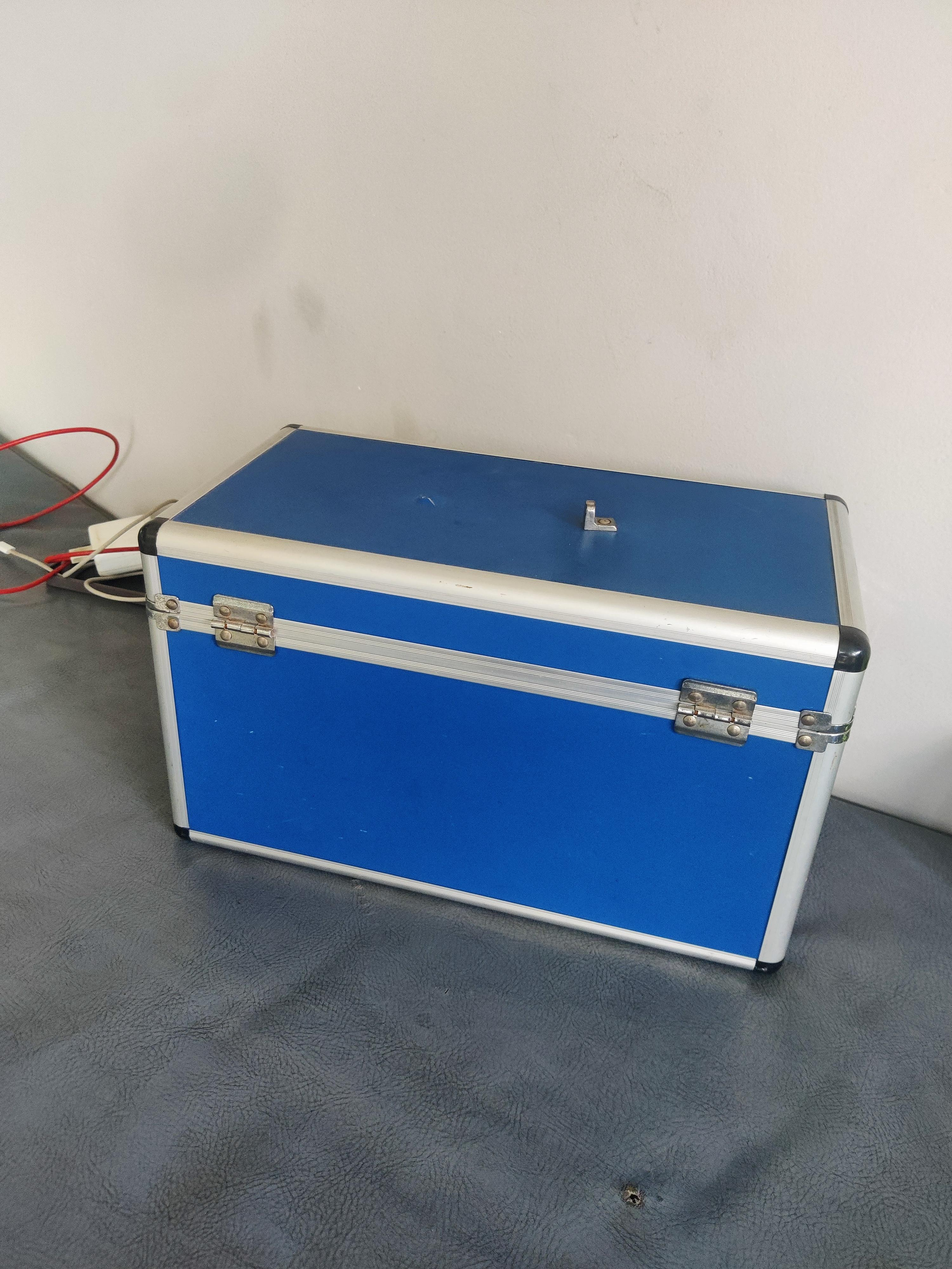FirstAidBox: (113, 396, 879, 1029)
